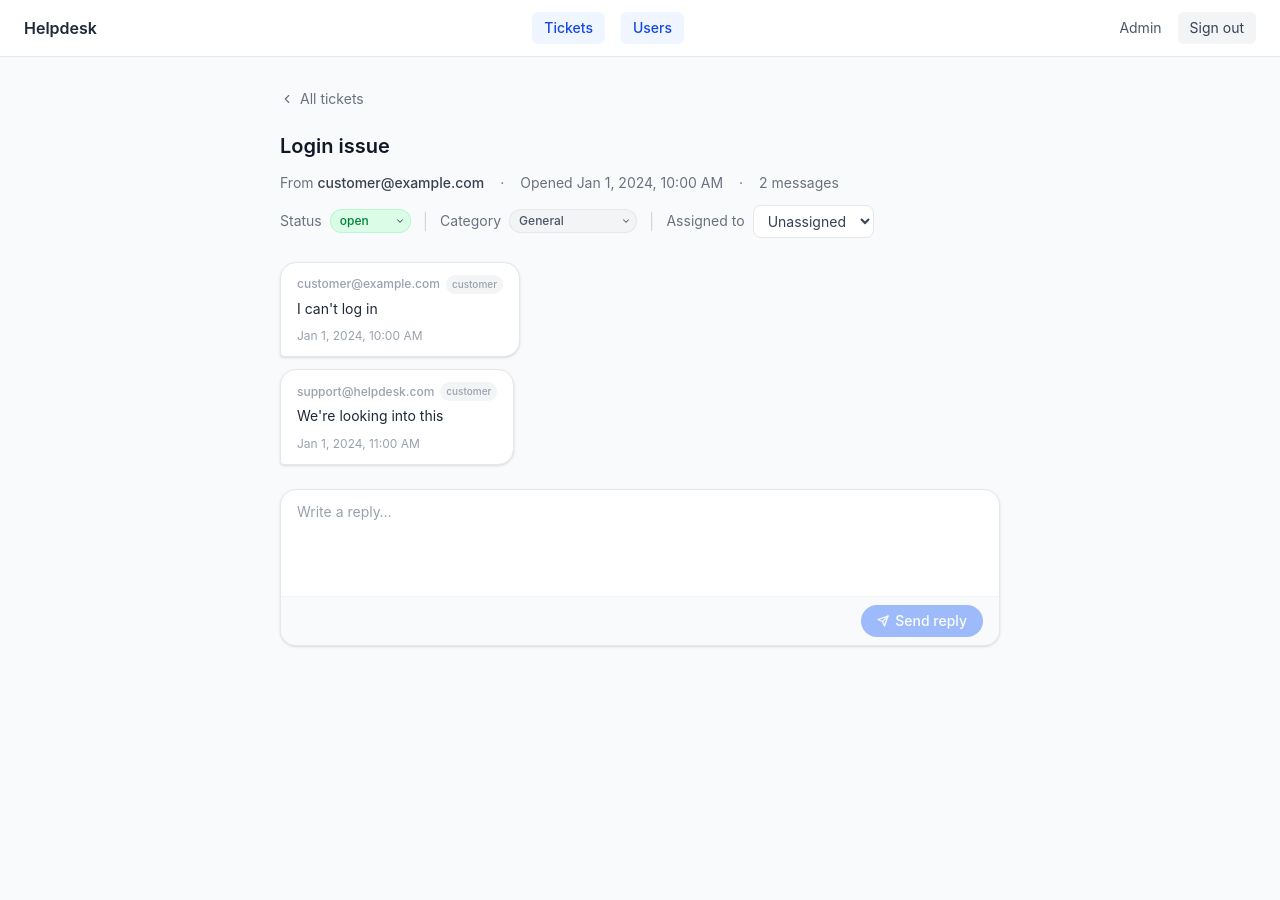
TicketDetailPage — ReplyForm › disables the Send reply button while the mutation is in flight
Expected: the heading "Login issue" is shown, top-left (280, 134), bottom-right (390, 158)
Type "Hello" into the text box with placeholder "Write a reply…" at (640, 540), box top-left (281, 490), bottom-right (999, 590)
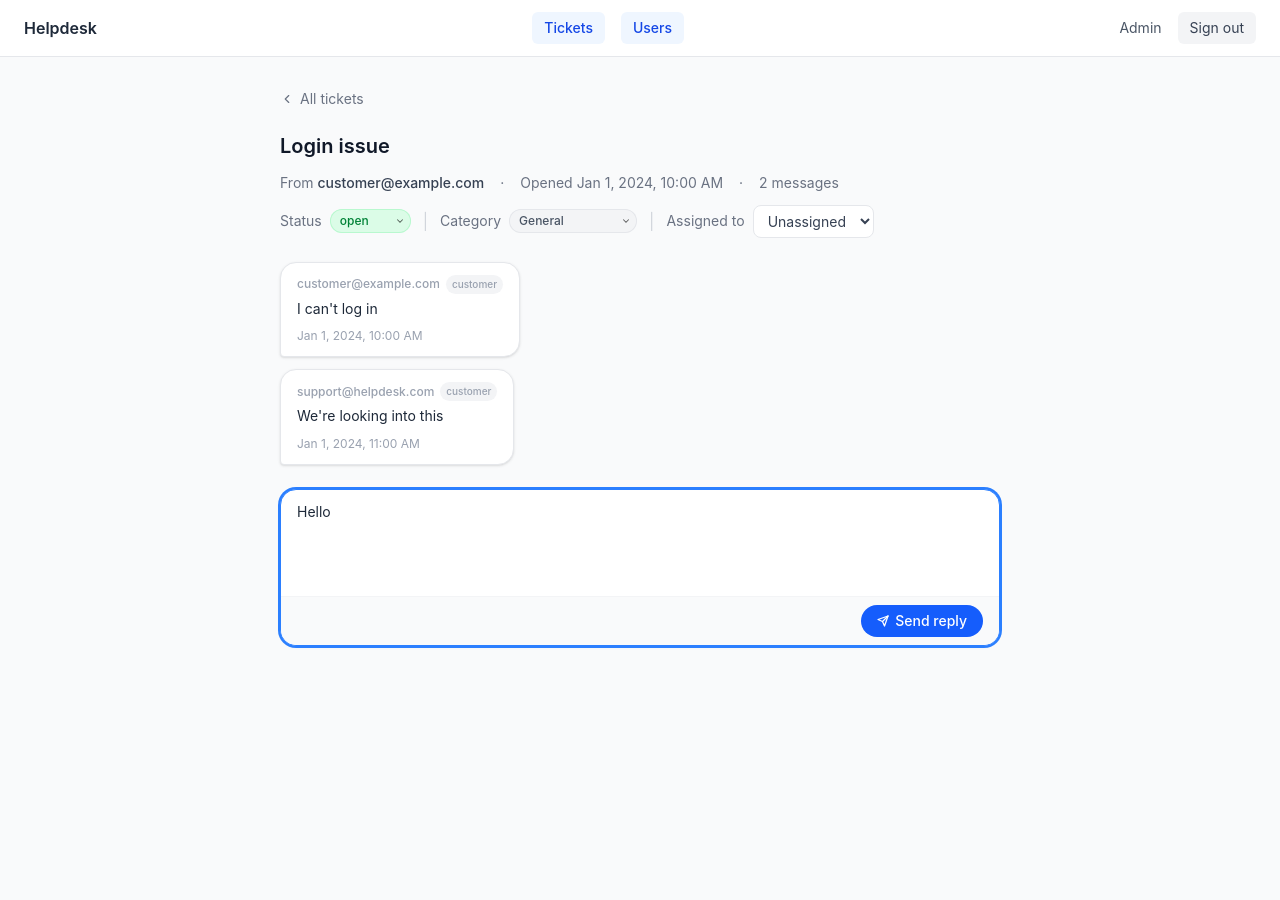
Click the button "Send reply" at (922, 621), box top-left (861, 605), bottom-right (983, 637)
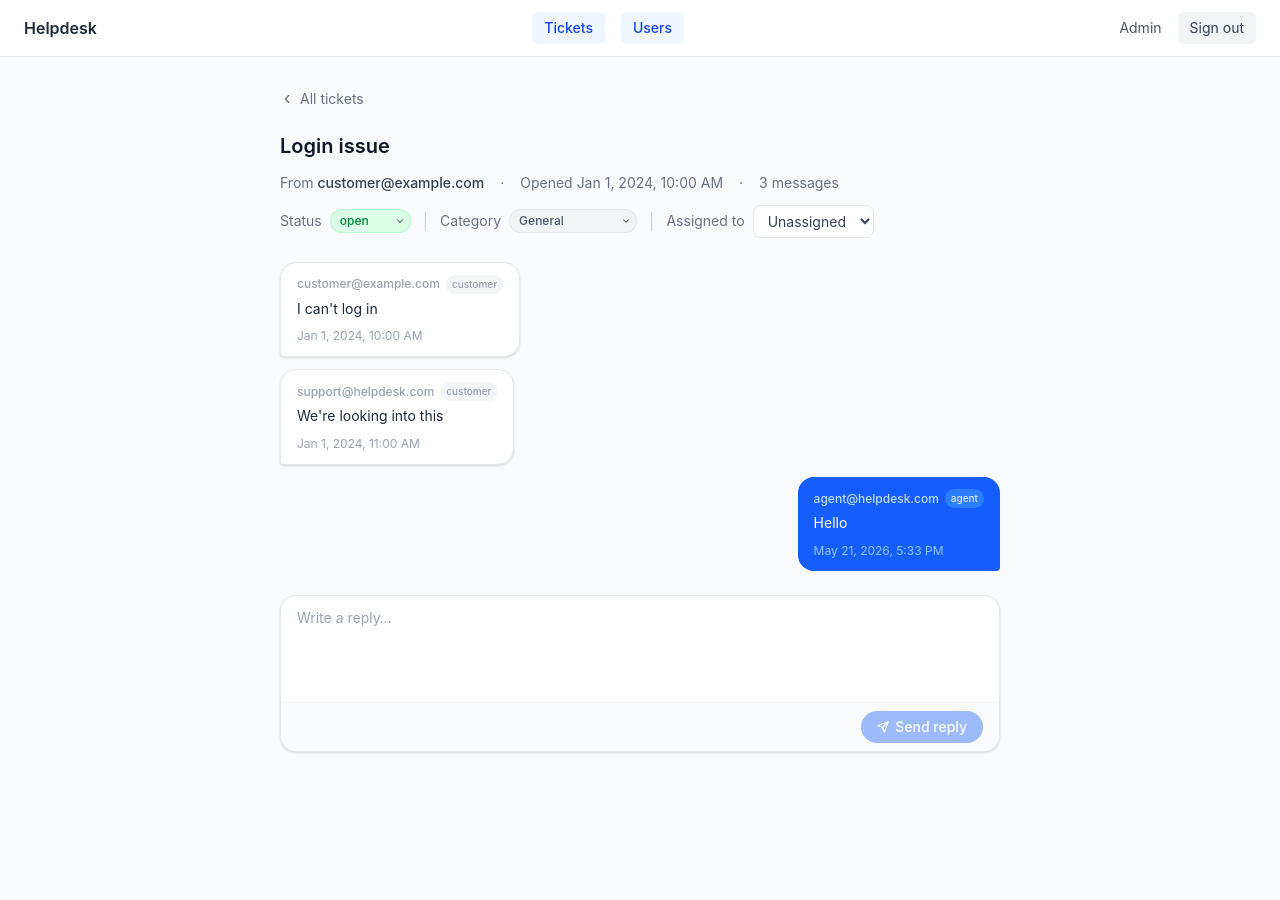
Expected: the button named "sending" is disabled, top-left (861, 711), bottom-right (983, 743)
